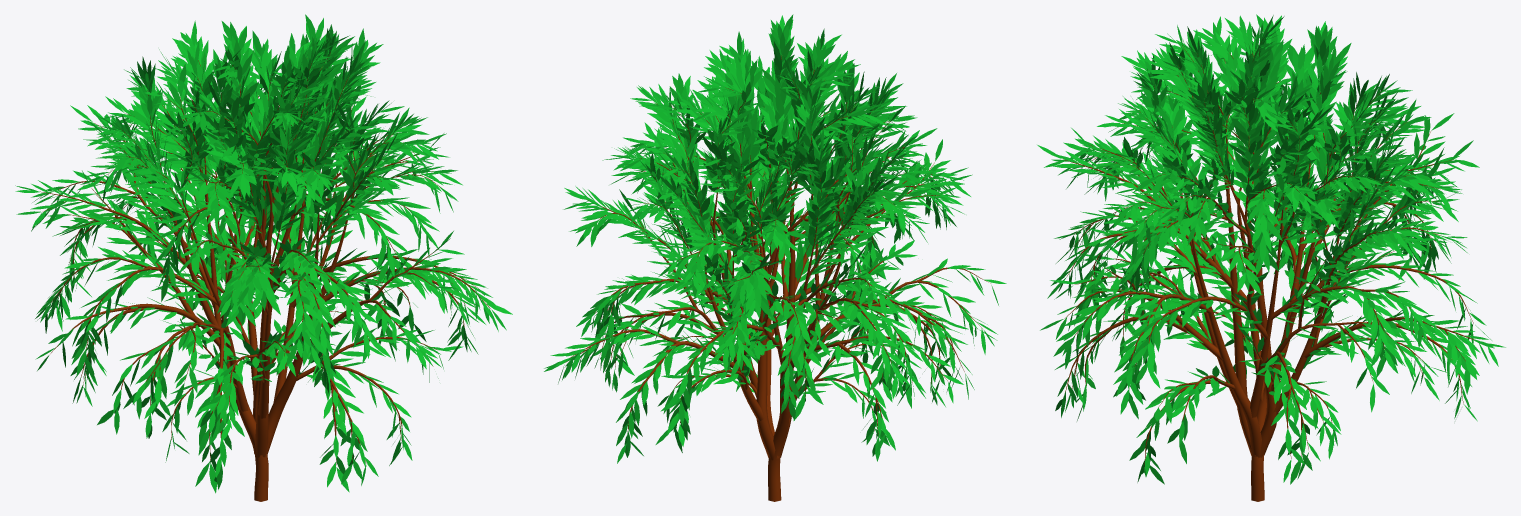
The picture shows the model from 3 angles, left to right: view 1: azimuth 30°, elevation 25°; view 2: azimuth 150°, elevation 25°; view 3: azimuth 270°, elevation 25°; orthographic projection. The views are drawn at different scales.
Visible parts, largest first — view 1: leaves, tree; view 2: leaves, tree; view 3: leaves, tree.
Part boxes in pixels (x1=…): leaves: x1=15, y1=14, x2=512, y2=493; tree: x1=40, y1=52, x2=490, y2=501; leaves: x1=544, y1=14, x2=1006, y2=463; tree: x1=565, y1=55, x2=990, y2=501; leaves: x1=1037, y1=14, x2=1505, y2=484; tree: x1=1063, y1=39, x2=1474, y2=501.
Size of the model in its own units: 5.78 by 6.82 by 6.05.
